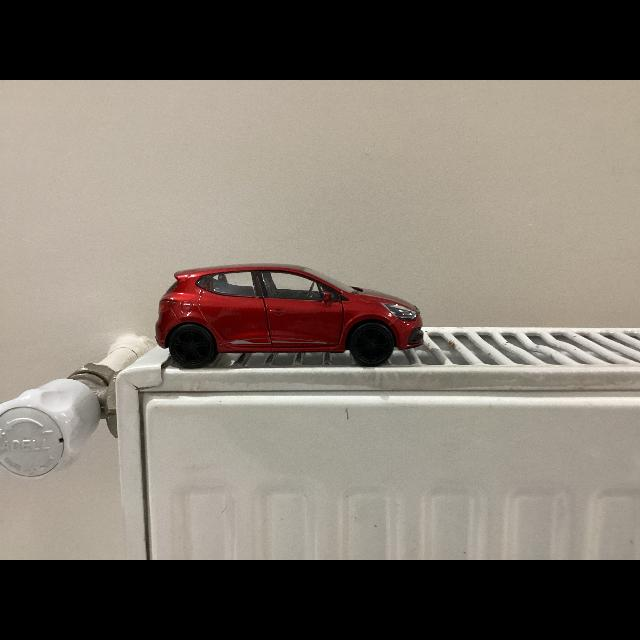Dogru_Jant: (352, 324, 390, 362), (174, 329, 208, 363)
